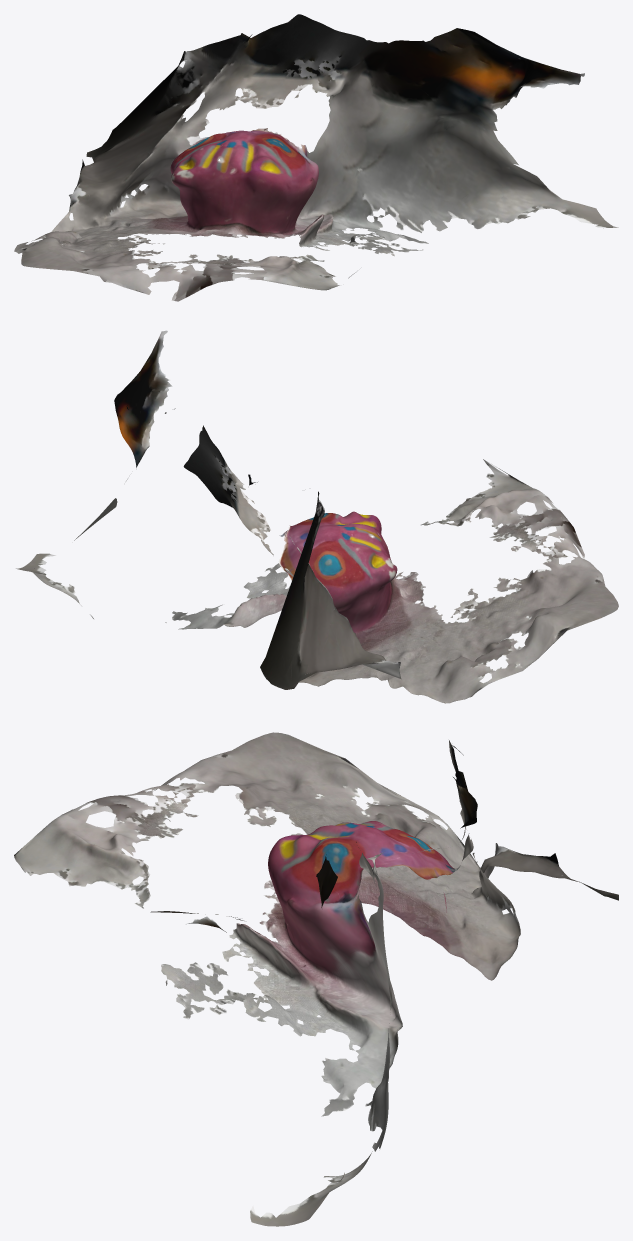
The picture shows the model from 3 angles, top to bottom: view 1: azimuth 30°, elevation 25°; view 2: azimuth 150°, elevation 25°; view 3: azimuth 270°, elevation 25°; orthographic projection. The views are drawn at different scales.
Size of the model in its own units: 1.57 by 0.5526 by 1.1.
1 material, 1 textured.
